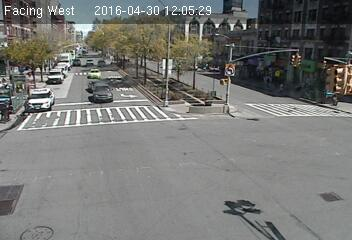neg: (146, 85, 168, 115), (285, 117, 306, 145), (280, 42, 301, 70), (189, 43, 209, 68), (34, 30, 53, 56), (125, 161, 143, 186), (91, 88, 109, 112), (234, 27, 252, 51), (36, 144, 54, 168), (317, 184, 335, 208), (13, 189, 31, 213), (127, 200, 145, 223), (35, 105, 52, 128), (262, 207, 279, 230), (228, 185, 245, 207), (181, 179, 197, 201), (55, 175, 71, 196), (69, 159, 84, 179), (151, 33, 166, 52), (72, 37, 86, 57), (221, 120, 235, 139), (205, 94, 219, 112), (220, 63, 234, 81), (115, 35, 127, 51), (49, 74, 60, 89)
